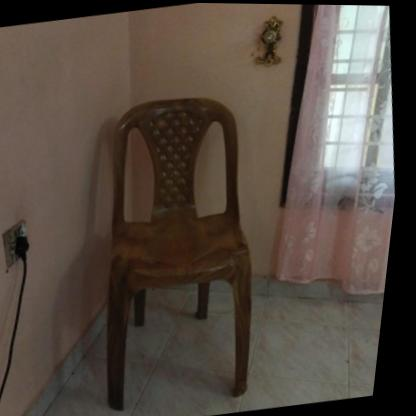Chair: (74, 86, 291, 414)
